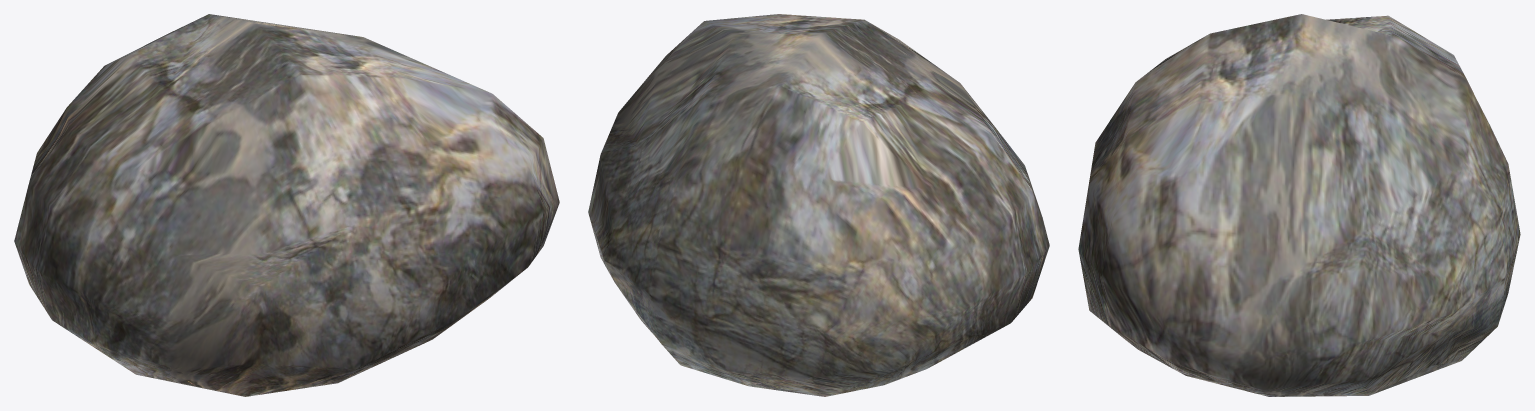
File: H27pierreMoyenne.fbx
3 renders of one model, left to right at view 1: azimuth 30°, elevation 25°; view 2: azimuth 150°, elevation 25°; view 3: azimuth 270°, elevation 25°, orthographic. The views are drawn at different scales.
Visible parts, largest first — view 1: pierreMoyenne; view 2: pierreMoyenne; view 3: pierreMoyenne.
Part boxes in pixels (x1,y1,x2,y2): pierreMoyenne: (14,14,559,396); pierreMoyenne: (588,14,1049,396); pierreMoyenne: (1078,14,1520,396).
Size of the model in its own units: 0.7821 by 0.5058 by 0.636.
